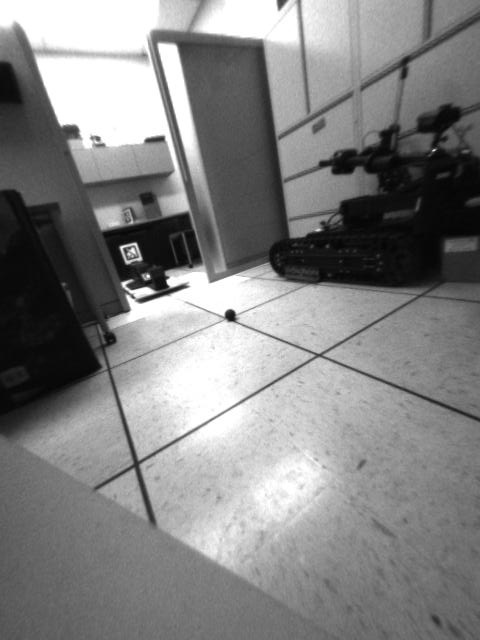dogtoy: (216, 301, 246, 327)
